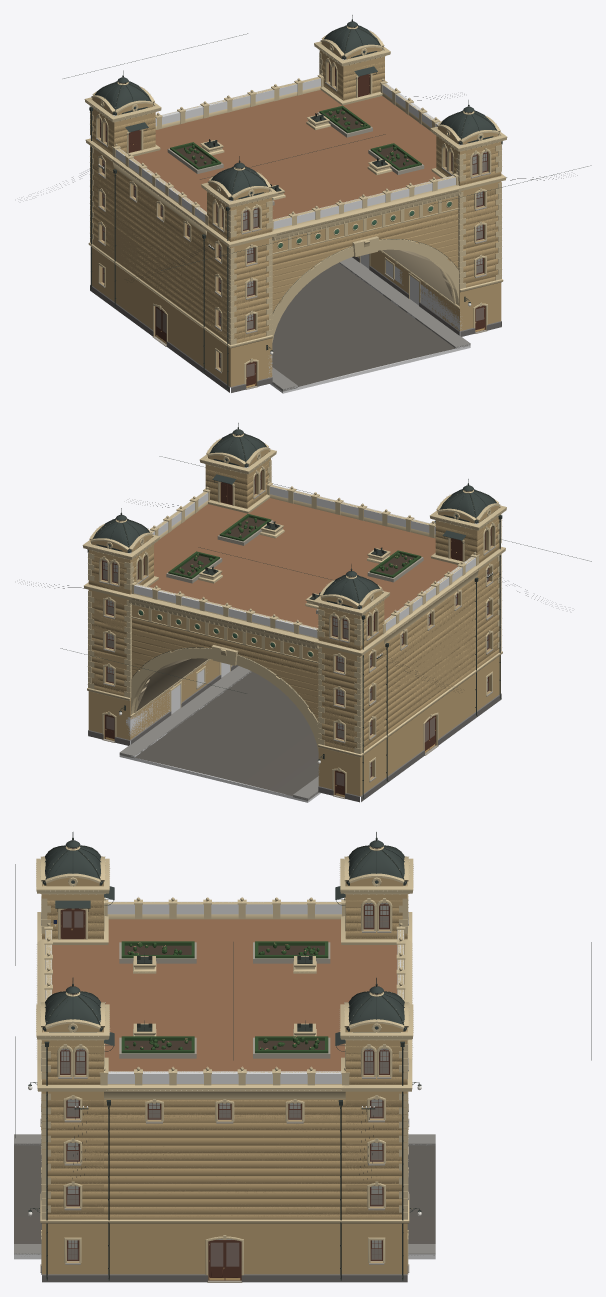
The model's file is tower-base-exterior.glb.
The picture shows the model from 3 angles, top to bottom: view 1: azimuth 30°, elevation 25°; view 2: azimuth 150°, elevation 25°; view 3: azimuth 270°, elevation 25°; orthographic projection. The views are drawn at different scales.
Parts seen in each view (by area): view 1: TB_EXT_LOD0_wall, TB_EXT_LOD2_wall, TB_EXT_LOD0_trim, TB_EXT_LOD0_deck, TB_EXT_LOD0_paving, TB_EXT_LOD1_trim, TB_EXT_LOD2_trim, TB_EXT_LOD0_roof_sheet, TB_EXT_LOD0_reveal, TB_EXT_LOD2_kerb, TB_EXT_LOD0_plinth, TB_EXT_LOD0_joinery (+18 smaller); view 2: TB_EXT_LOD0_wall, TB_EXT_LOD2_wall, TB_EXT_LOD0_trim, TB_EXT_LOD0_deck, TB_EXT_LOD0_paving, TB_EXT_LOD1_trim, TB_EXT_LOD2_trim, TB_EXT_LOD0_roof_sheet, TB_EXT_LOD0_joinery, TB_EXT_LOD0_reveal, TB_EXT_LOD0_plinth, TB_EXT_LOD1_wall (+19 smaller); view 3: TB_EXT_LOD0_wall, TB_EXT_LOD0_deck, TB_EXT_LOD0_trim, TB_EXT_LOD2_wall, TB_EXT_LOD0_roof_sheet, TB_EXT_LOD2_trim, TB_EXT_LOD1_trim, TB_EXT_LOD0_paving, TB_EXT_LOD1_glass, TB_EXT_LOD0_joinery, TB_EXT_LOD2_backing, TB_EXT_LOD0_plinth (+15 smaller).
Part boxes in pixels (<box>): TB_EXT_LOD0_wall: <box>90,41,501,386</box>; TB_EXT_LOD2_wall: <box>90,44,501,386</box>; TB_EXT_LOD0_trim: <box>84,26,507,384</box>; TB_EXT_LOD0_deck: <box>133,90,441,219</box>; TB_EXT_LOD0_paving: <box>272,263,455,386</box>; TB_EXT_LOD1_trim: <box>90,26,501,385</box>; TB_EXT_LOD2_trim: <box>85,26,506,383</box>; TB_EXT_LOD0_roof_sheet: <box>96,21,495,200</box>; TB_EXT_LOD0_reveal: <box>97,63,489,385</box>; TB_EXT_LOD2_kerb: <box>272,257,470,391</box>; TB_EXT_LOD0_plinth: <box>90,256,501,392</box>; TB_EXT_LOD0_joinery: <box>100,63,487,387</box>; TB_EXT_LOD0_wall: <box>88,449,500,795</box>; TB_EXT_LOD2_wall: <box>88,449,500,796</box>; TB_EXT_LOD0_trim: <box>82,433,506,793</box>; TB_EXT_LOD0_deck: <box>149,498,457,627</box>; TB_EXT_LOD0_paving: <box>135,671,318,796</box>; TB_EXT_LOD1_trim: <box>88,435,501,795</box>; TB_EXT_LOD2_trim: <box>83,434,506,792</box>; TB_EXT_LOD0_roof_sheet: <box>94,429,495,608</box>; TB_EXT_LOD0_joinery: <box>102,471,491,795</box>; TB_EXT_LOD0_reveal: <box>100,471,494,794</box>; TB_EXT_LOD0_plinth: <box>88,665,501,802</box>; TB_EXT_LOD1_wall: <box>92,452,498,773</box>; TB_EXT_LOD0_wall: <box>42,877,407,1273</box>; TB_EXT_LOD0_deck: <box>52,919,397,1071</box>; TB_EXT_LOD0_trim: <box>36,846,413,1275</box>; TB_EXT_LOD2_wall: <box>42,877,407,1274</box>; TB_EXT_LOD0_roof_sheet: <box>42,840,407,1045</box>; TB_EXT_LOD2_trim: <box>36,847,412,1274</box>; TB_EXT_LOD1_trim: <box>41,848,408,1281</box>; TB_EXT_LOD0_paving: <box>14,1145,435,1243</box>; TB_EXT_LOD1_glass: <box>61,903,388,1266</box>; TB_EXT_LOD0_joinery: <box>60,897,389,1280</box>; TB_EXT_LOD2_backing: <box>61,903,388,1259</box>; TB_EXT_LOD0_plinth: <box>41,1120,408,1282</box>.
Bounding box in the file's own units: 47.9 × 23.2 × 41.11.
